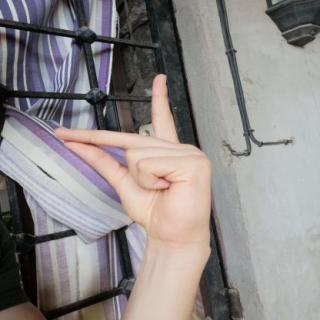TAA: (42, 62, 226, 255)
